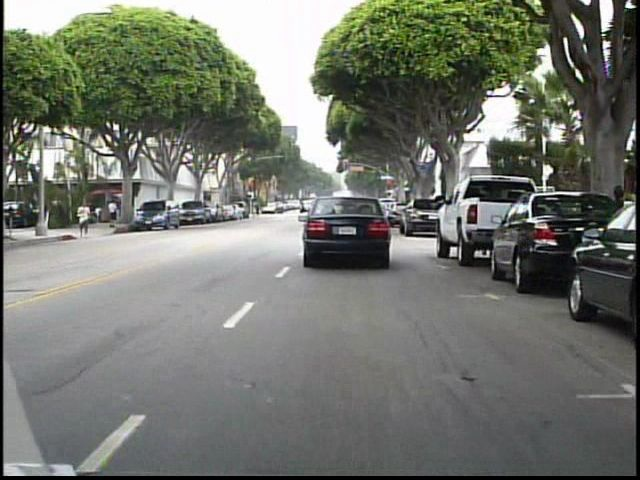person: (75, 196, 94, 239), (109, 196, 123, 228), (252, 199, 264, 220)
